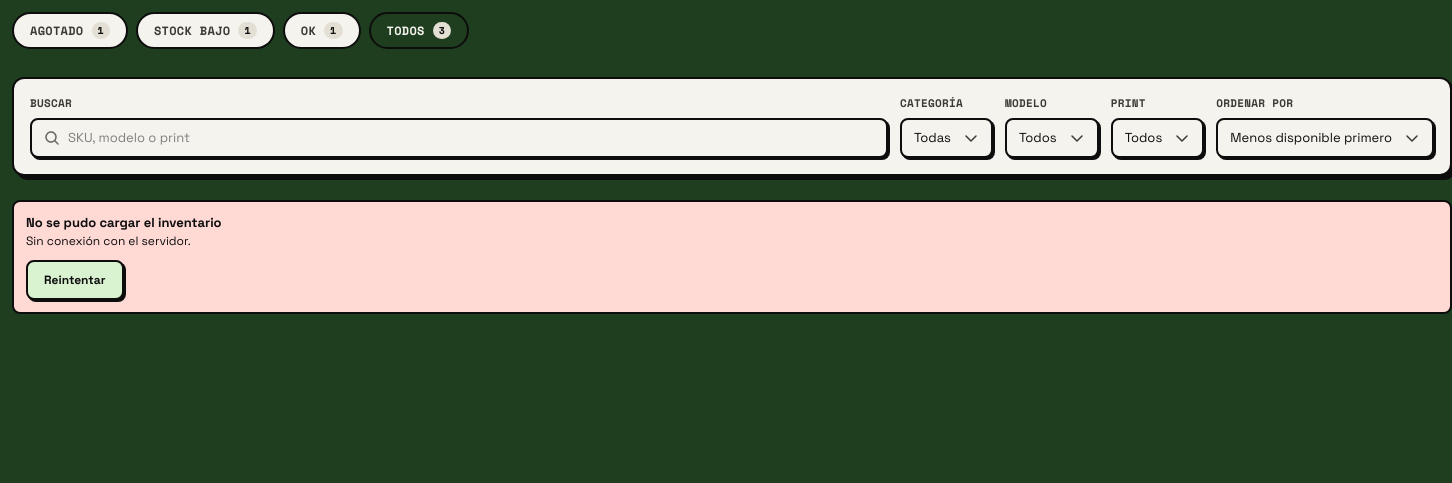
Test: InventoryPage: pestañas, estados y URL › un error de carga muestra el aviso y Reintentar vuelve a pedir
expect the message shows "Sin conexión con el servidor.": met, box [26,233,191,249]
Click the button "Reintentar".
click(75, 280)  # box [26,260,124,300]
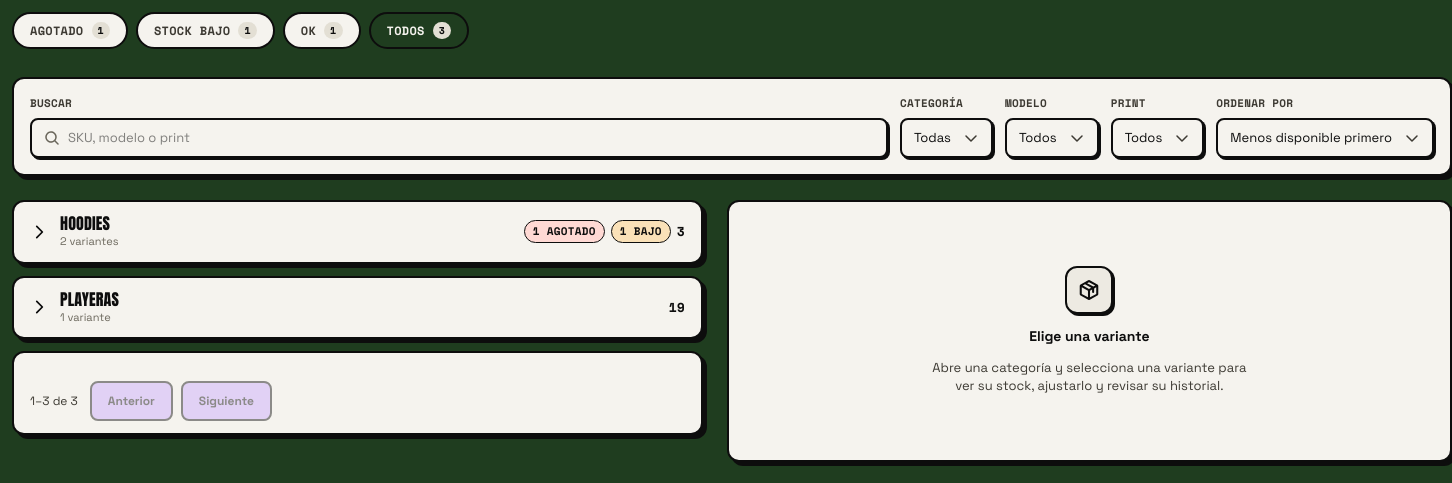
expect the button "Hoodies 2 variantes 1 agotado 1 bajo 3" is shown: met, box [14,202,701,262]
